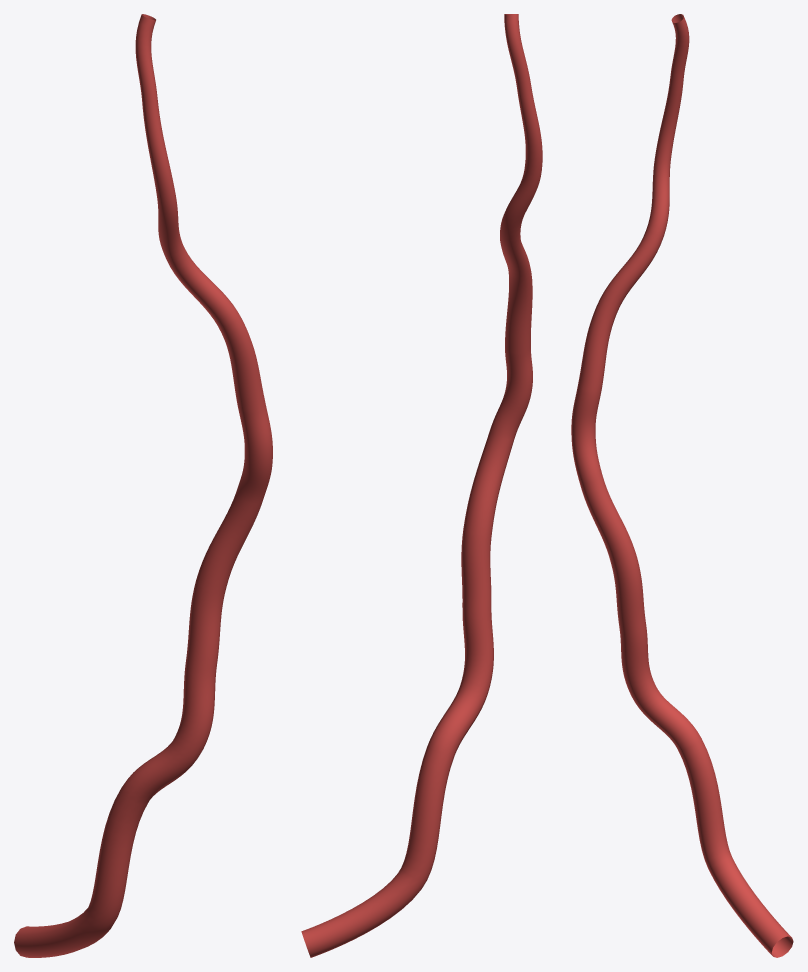
3 views of the same model, side by side, from view 1: azimuth 90°, elevation 25°; view 2: azimuth 150°, elevation 25°; view 3: azimuth 270°, elevation 25° (orthographic). The views are drawn at different scales.
Parts seen in each view (by area): view 1: 右侧大脑中动脉M3段; view 2: 右侧大脑中动脉M3段; view 3: 右侧大脑中动脉M3段.
Boxes of the visible parts, x1,y1,x2,y2 form: 右侧大脑中动脉M3段: [14, 14, 272, 957]; 右侧大脑中动脉M3段: [301, 14, 542, 957]; 右侧大脑中动脉M3段: [571, 14, 793, 957].
Bounding box in the file's own units: 0.0213 × 0.1056 × 0.0243.
